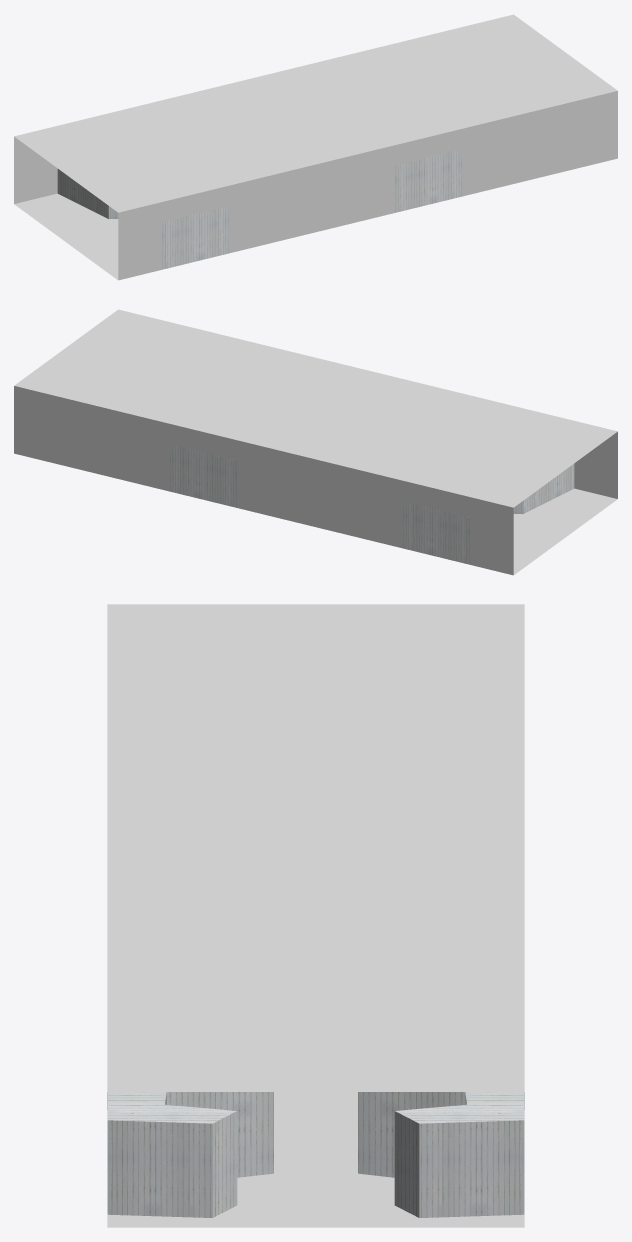
The model's file is MAP1.fbx.
3 views of the same model, one above another, from view 1: azimuth 30°, elevation 25°; view 2: azimuth 150°, elevation 25°; view 3: azimuth 270°, elevation 25° (orthographic). The views are drawn at different scales.
Visible parts, largest first — view 1: Box001, Line009, Line005, Line008; view 2: Box001, Line010, Line008, Line005; view 3: Box001, Line009, Line010.
Part boxes in pixels (<box>): Box001: <box>14,14,617,280</box>; Line009: <box>395,149,462,212</box>; Line005: <box>161,206,228,269</box>; Line008: <box>57,169,118,219</box>; Box001: <box>14,309,617,575</box>; Line010: <box>169,444,236,507</box>; Line008: <box>403,501,470,564</box>; Line005: <box>513,464,574,514</box>; Box001: <box>107,604,524,1227</box>; Line009: <box>107,1092,273,1217</box>; Line010: <box>358,1092,524,1217</box>.
Size of the model in its own units: 775 by 100 by 280.
Materials: 1 (1 with a texture image).
